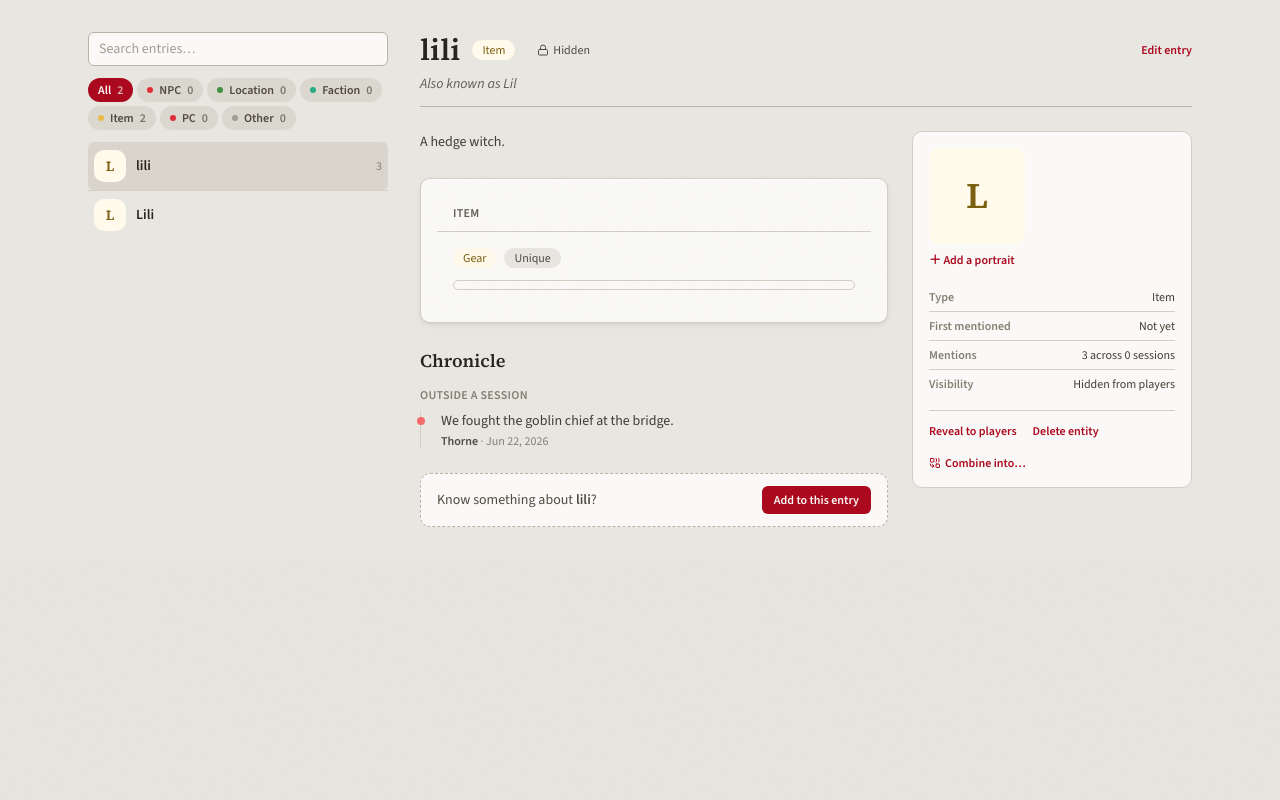
Test: EntityDetailPage (#248) › Combine into… (#1943) › warns that the survivor inherits the duplicate's campaign item when both are ITEM-typed
The width and height of the screenshot is (1280, 800).
What coordinates should you click on to do the following:
click the button "Combine into…"
I would click on:
 (977, 463)
Its box is [929,455,1026,471].
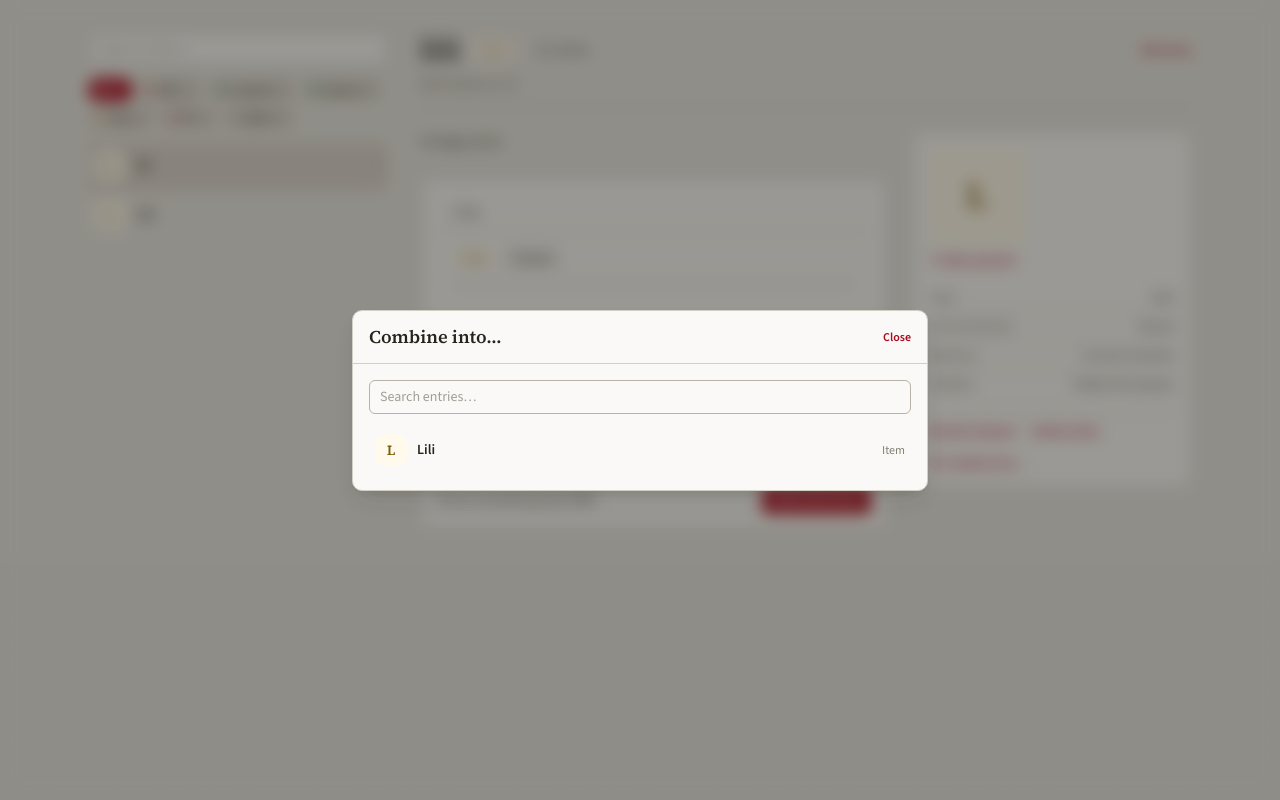
What coordinates should you click on to do the following:
click the button "L Lili Item"
I would click on:
 (391, 450)
Its box is [369,426,911,474].
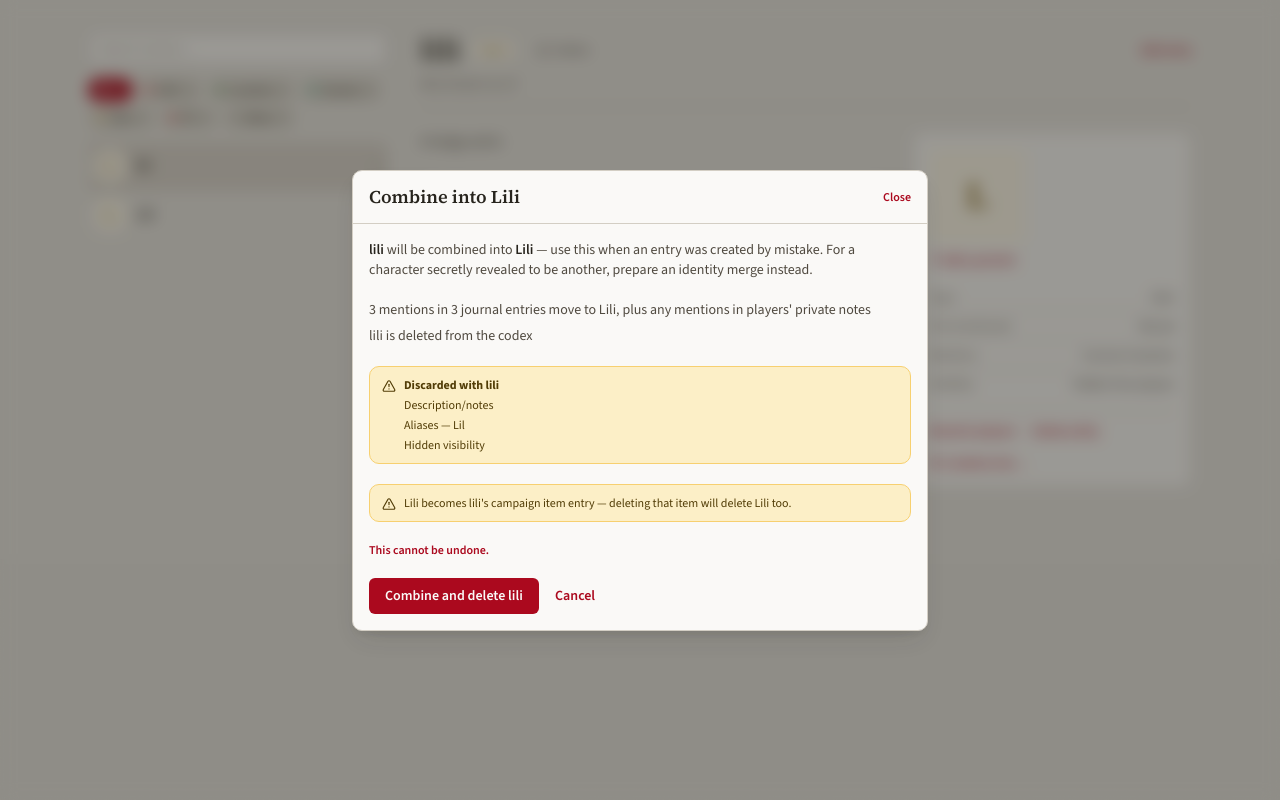
Now the text "becomes lili's campaign item entry" is shown, box [404,494,792,510]
